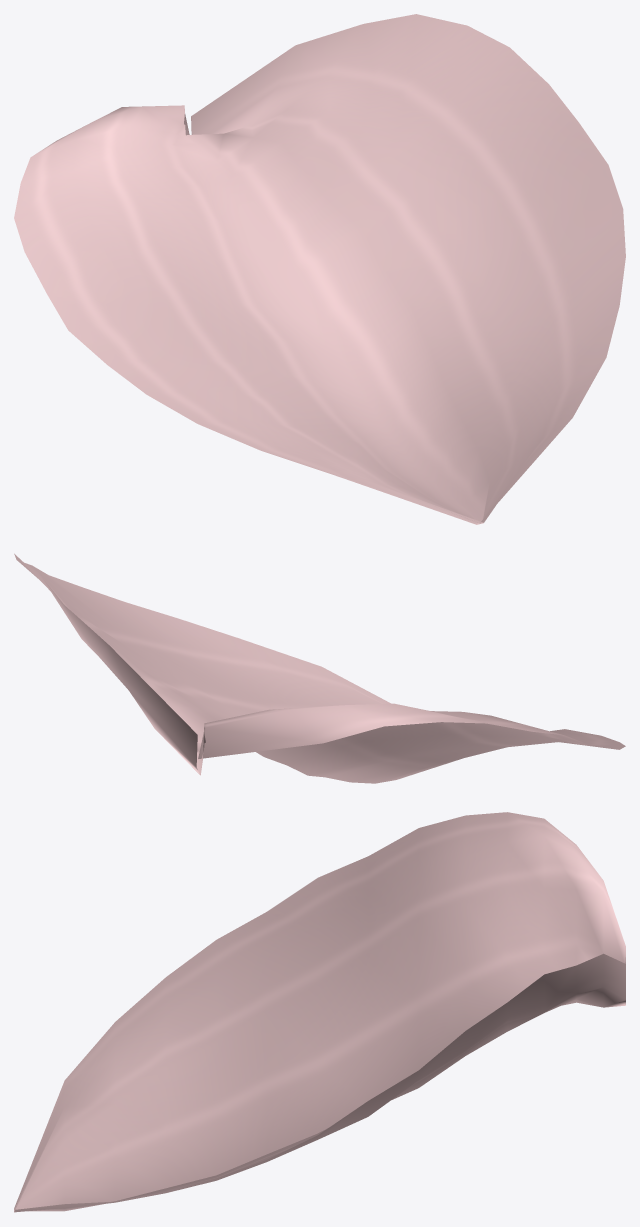
The model's file is petal_15_folded.glb.
3 renders of one model, top to bottom at view 1: azimuth 30°, elevation 25°; view 2: azimuth 150°, elevation 25°; view 3: azimuth 270°, elevation 25°, orthographic. The views are drawn at different scales.
Visible parts, largest first — view 1: petal_15_folded; view 2: petal_15_folded; view 3: petal_15_folded.
Part boxes in pixels (bbox=[...]): petal_15_folded: bbox=[14, 14, 625, 524]; petal_15_folded: bbox=[14, 553, 625, 783]; petal_15_folded: bbox=[14, 812, 625, 1212].
Size of the model in its own units: 0.084 by 0.0438 by 0.0735.
1 material, 1 textured.
